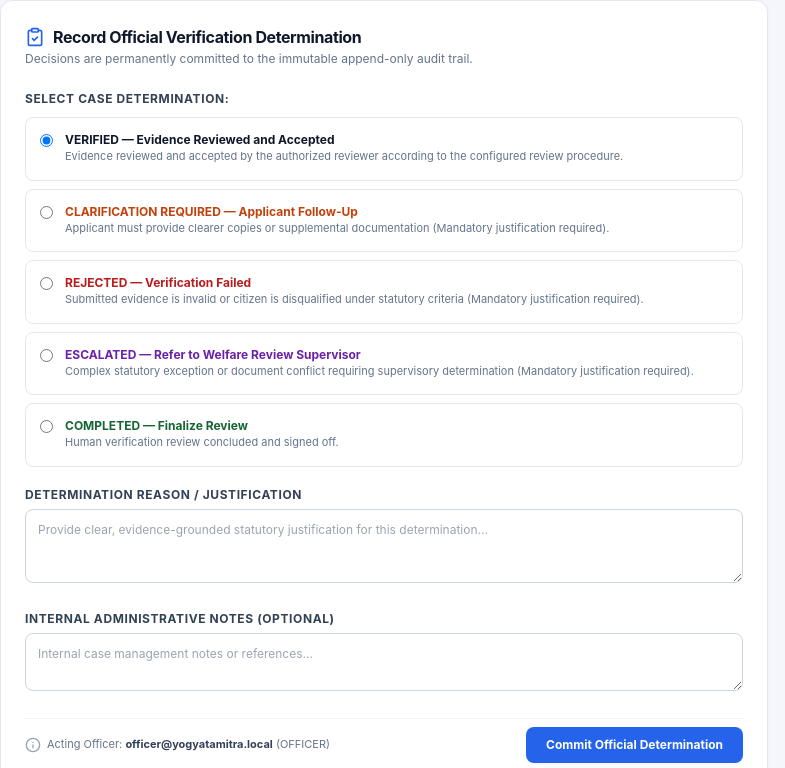
Test: Phase 14: Officer / Human Verification Portal › 7. Officer Determination enforces mandatory reason on adverse or escalated decision
Expected: the heading "Record Official Verification Determination" is shown, x1=53 y1=25 x2=361 y2=49
Note: Select REJECTED
Click the radio button labelled "REJECTED — Verification Failed" at (46, 284), box x1=40 y1=277 x2=53 y2=290
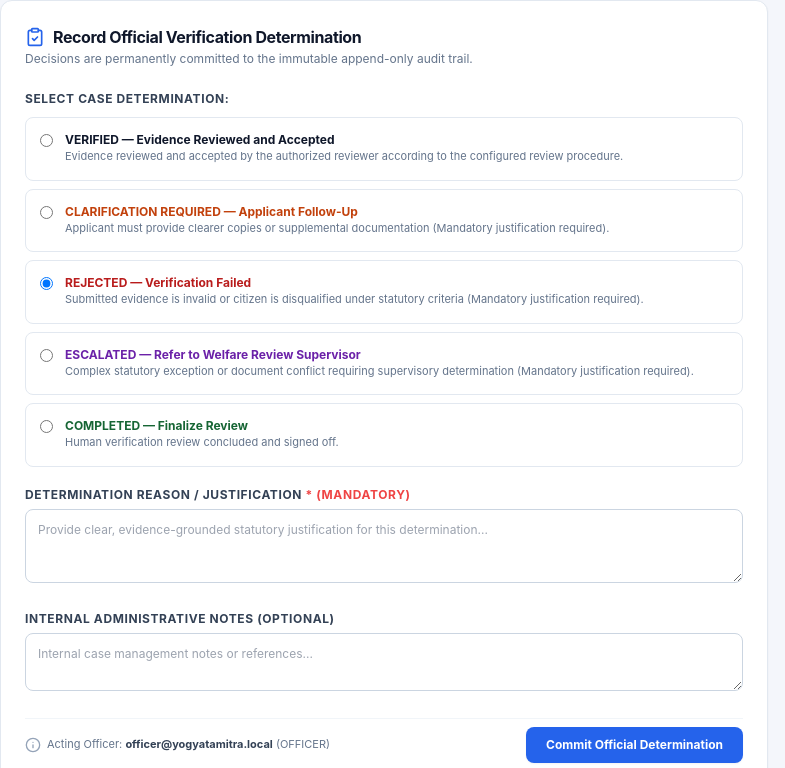
Note: Try submitting without reason
Click the button "Commit Official Determination" at (634, 745), box x1=526 y1=727 x2=743 y2=763
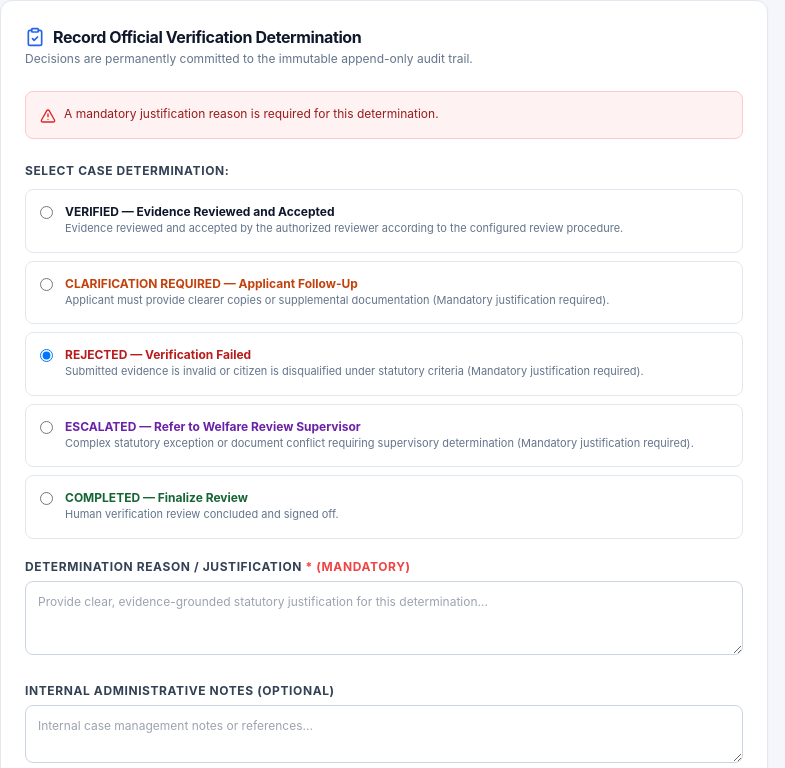
Expected: the text "A mandatory justification reason is required for this determination" is shown, x1=64 y1=106 x2=439 y2=121
